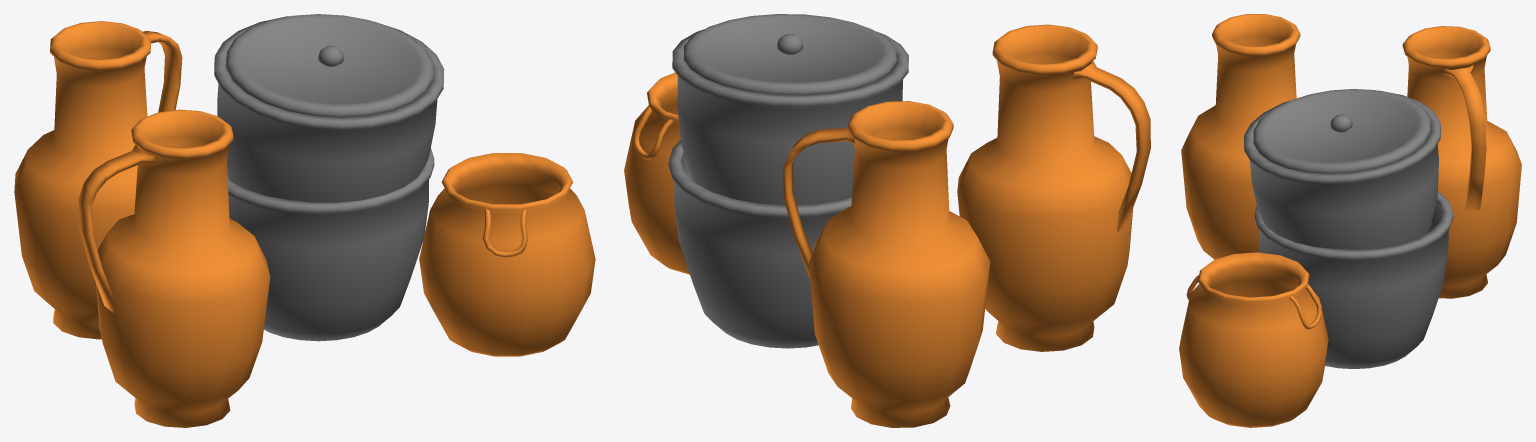
File: SM_pottery_preset_02.fbx
3 views of the same model, side by side, from view 1: azimuth 30°, elevation 25°; view 2: azimuth 150°, elevation 25°; view 3: azimuth 270°, elevation 25° (orthographic). The views are drawn at different scales.
Visible parts, largest first — view 1: Cylinder127; view 2: Cylinder127; view 3: Cylinder127.
Part boxes in pixels (x1,y1,x2,y2): Cylinder127: (14, 14, 595, 427); Cylinder127: (624, 14, 1150, 427); Cylinder127: (1179, 14, 1521, 427).
Size of the model in its own units: 55.99 by 30.11 by 38.85.
